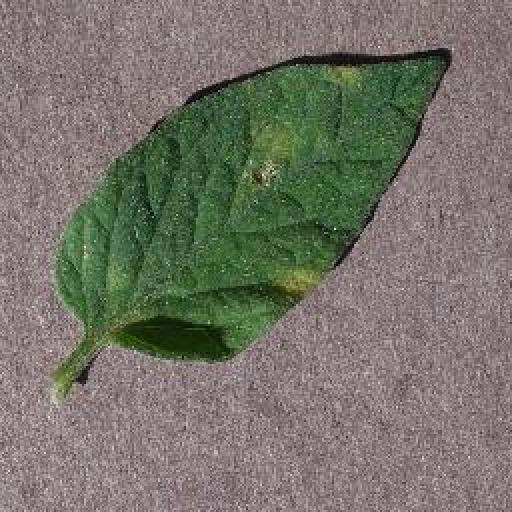disease_tomato: (52, 52, 452, 364)
